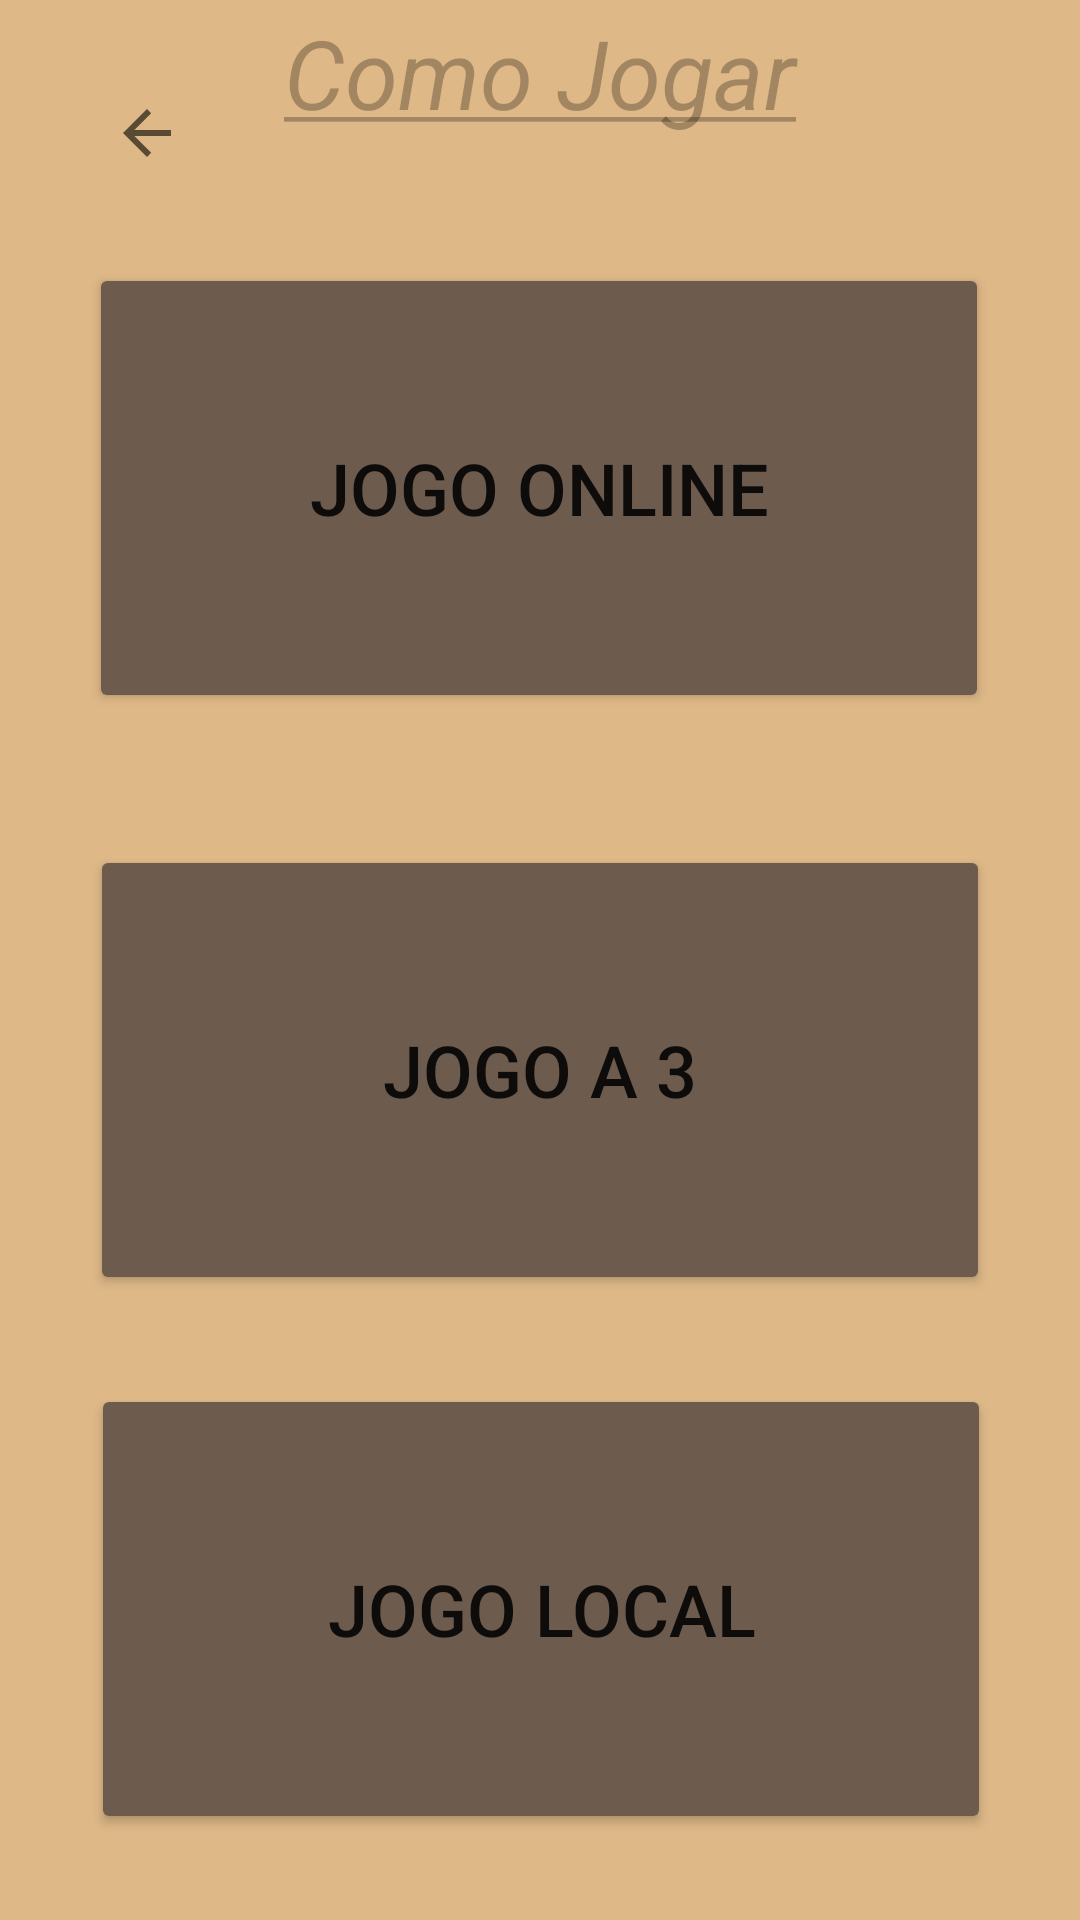

Icons on this 1080*1920 Android screen, each with the point to tap as (x,y):
A back button: (147,133)
